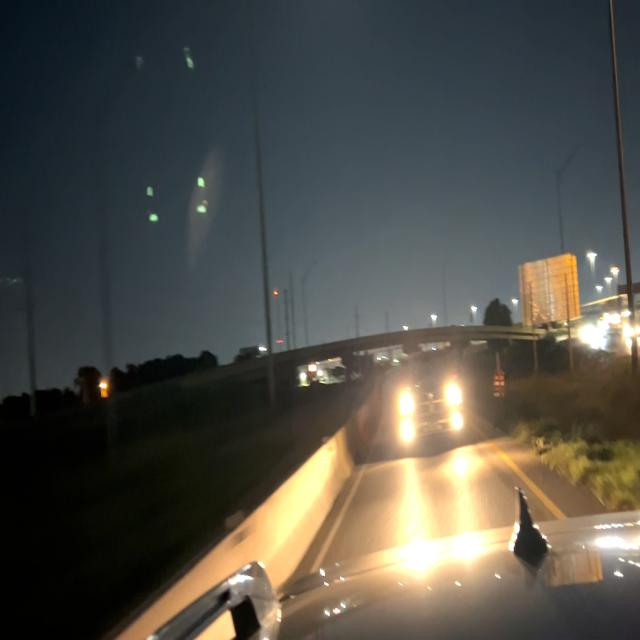back-of-sign: (516, 254, 582, 325)
